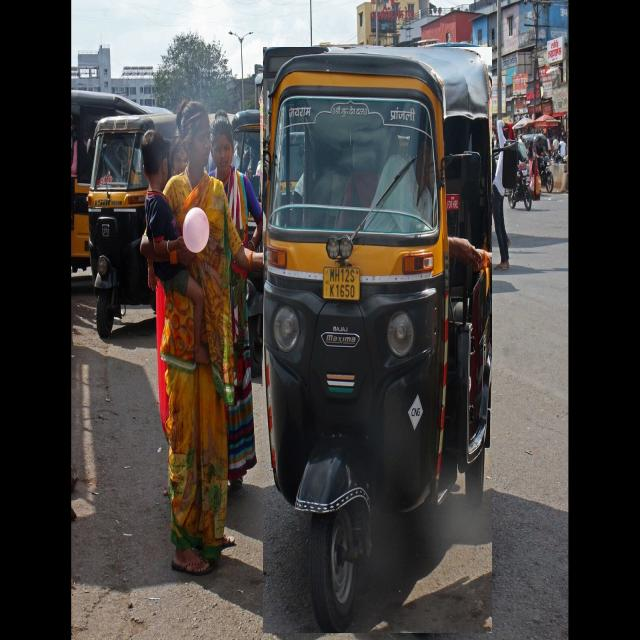autorickshaw: (263, 47, 491, 633), (88, 113, 176, 338), (71, 89, 148, 270)
motorcycle: (506, 140, 532, 211), (535, 138, 554, 193)
